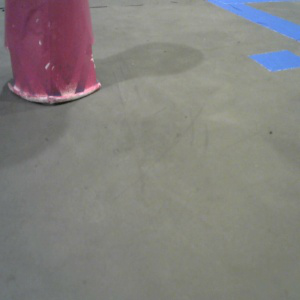middle: (5, 1, 101, 104)
